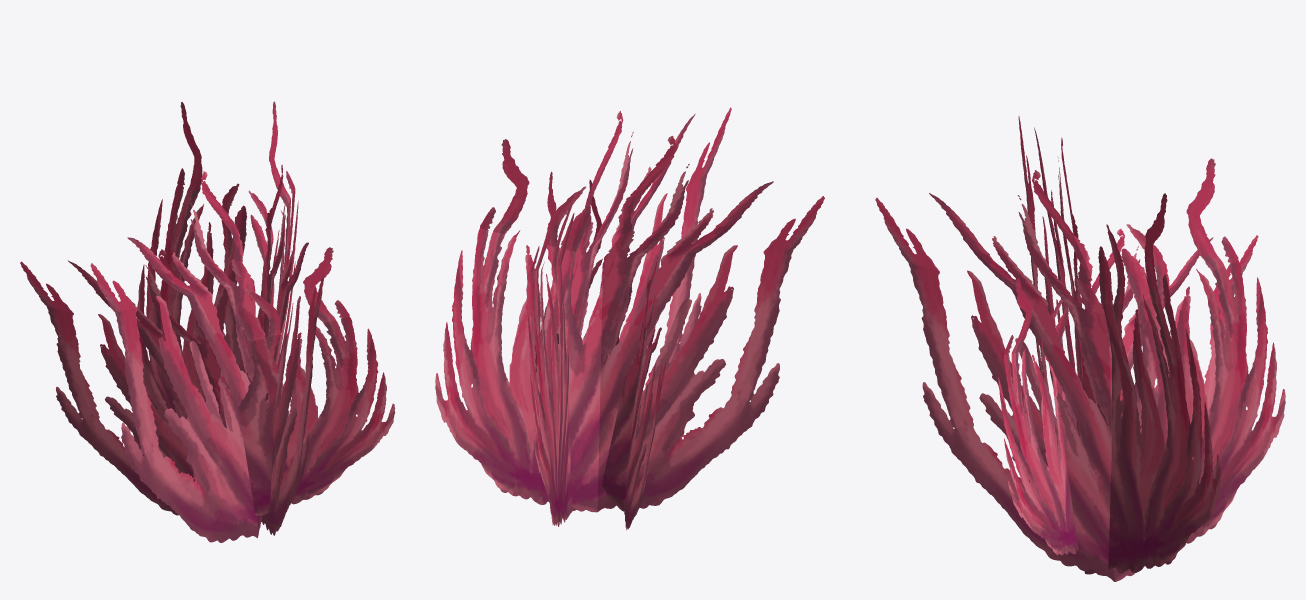
Rendered from grass2.fbx.
3 views of the same model, side by side, from view 1: azimuth 30°, elevation 25°; view 2: azimuth 150°, elevation 25°; view 3: azimuth 270°, elevation 25° (orthographic). The views are drawn at different scales.
Visible parts, largest first — view 1: Plane.002; view 2: Plane.002; view 3: Plane.002.
Part boxes in pixels (x1,y1,x2,y2): Plane.002: (20,101,395,542); Plane.002: (435,107,824,530); Plane.002: (875,116,1285,581).
Bounding box in the file's own units: 258 × 355 × 285.
